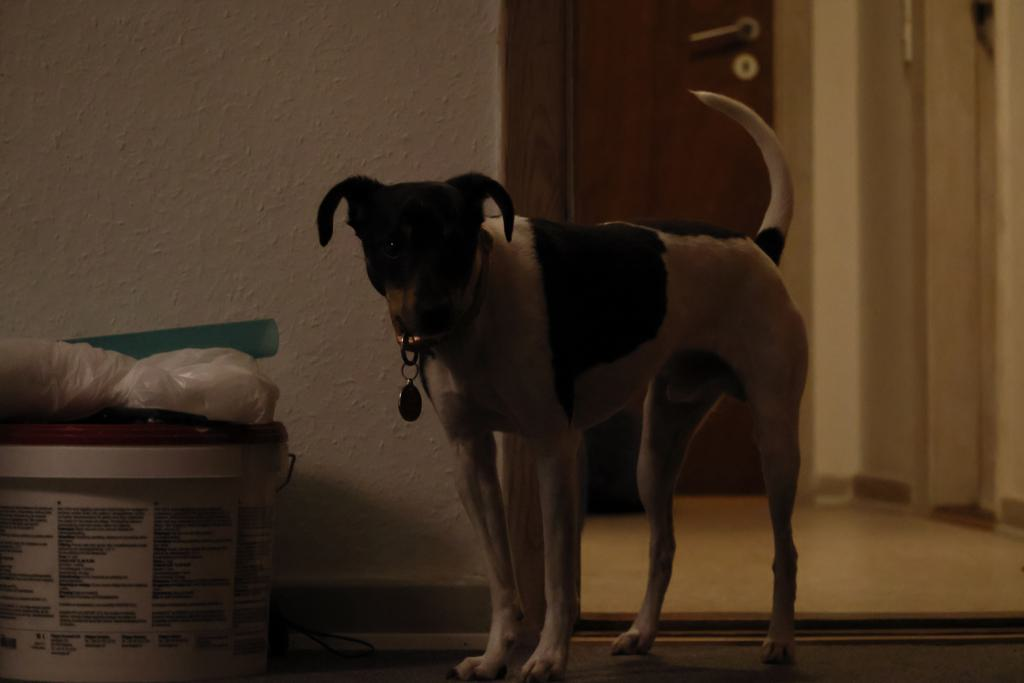Dog: (302, 78, 835, 683)
